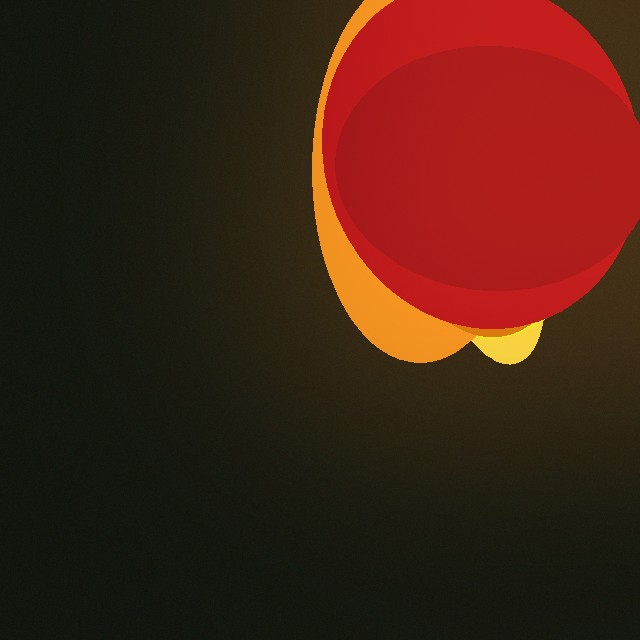fire: (353, 63, 575, 371)
